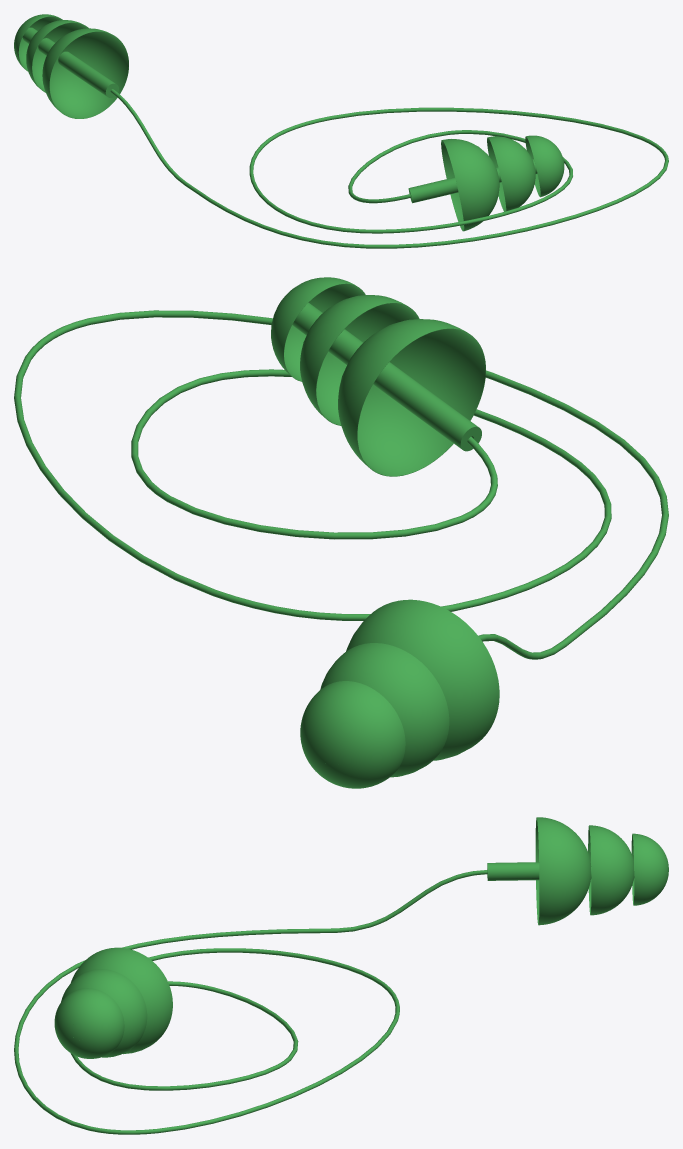
File: Protetor auricular v1.fbx
The picture shows the model from 3 angles, top to bottom: view 1: azimuth 30°, elevation 25°; view 2: azimuth 150°, elevation 25°; view 3: azimuth 270°, elevation 25°; orthographic projection. The views are drawn at different scales.
Parts seen in each view (by area): view 1: Body3, Body2, Body5, Body4, Body1; view 2: Body5, Body2, Body3, Body1, Body4; view 3: Body2, Body3, Body5, Body4, Body1.
Part boxes in pixels (<box>): Body3: <box>110,89,668,248</box>; Body2: <box>22,20,128,118</box>; Body5: <box>408,136,564,231</box>; Body4: <box>525,135,564,197</box>; Body1: <box>14,14,62,71</box>; Body5: <box>292,295,485,476</box>; Body2: <box>318,599,499,777</box>; Body3: <box>14,310,668,659</box>; Body1: <box>300,681,405,788</box>; Body4: <box>271,277,365,381</box>; Body2: <box>487,817,668,925</box>; Body3: <box>14,870,487,1134</box>; Body5: <box>61,947,172,1057</box>; Body4: <box>54,988,124,1058</box>; Body1: <box>631,833,667,905</box>.
Bounding box in the file's own units: 319 × 75.69 × 364.
